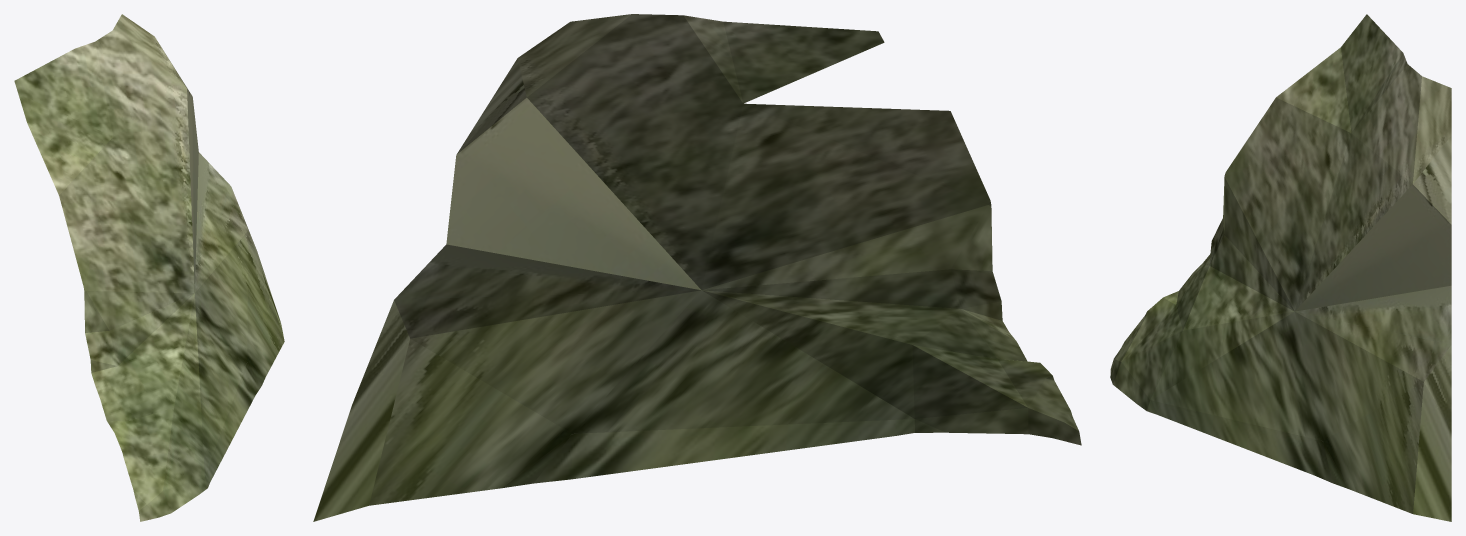
3 views of the same model, side by side, from view 1: azimuth 30°, elevation 25°; view 2: azimuth 150°, elevation 25°; view 3: azimuth 270°, elevation 25° (orthographic). The views are drawn at different scales.
Bounding box in the file's own units: 2.73 × 2.95 × 2.57.
Materials: 3 (3 with a texture image).
